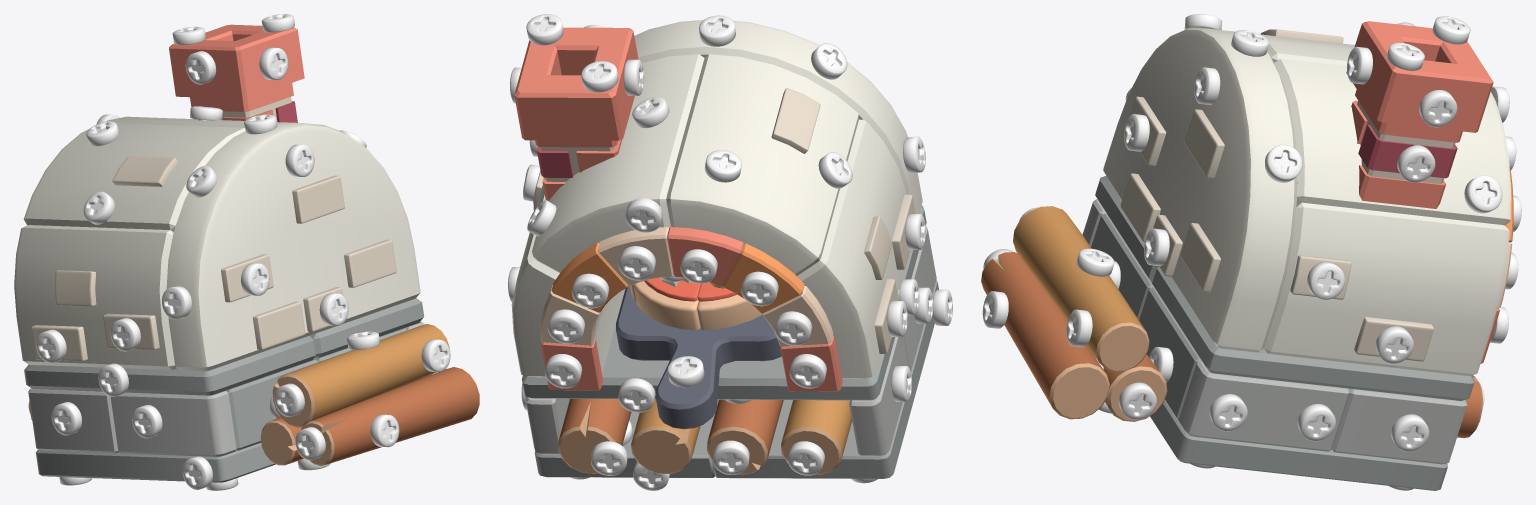
The model's file is Stove.fbx.
The picture shows the model from 3 angles, left to right: view 1: azimuth 30°, elevation 25°; view 2: azimuth 150°, elevation 25°; view 3: azimuth 270°, elevation 25°; orthographic projection. The views are drawn at different scales.
Visible parts, largest first — view 1: Stove_031, Stove_036, Screw (×23), Stove_032, Stove_015, Stove_023, Stove_024, Stove_038, Stove_013, Stove_035, Stove_014, Stove_010 (+3 smaller); view 2: Screw (×31), Stove_032, Stove_036, Stove_016, Stove_015, Stove_025, Stove_031, Stove_037, Stove_035, Stove_038, Stove_018, Stove_020 (+17 smaller); view 3: Stove_031, Stove_037, Screw (×20), Stove_015, Stove_016, Stove_024, Stove_023, Stove_009, Stove_033, Stove_008, Stove_012, Stove_011 (+5 smaller).
Part boxes in pixels (box(x1,y1,x2,y2)): Stove_031: box(166, 122, 420, 371); Stove_036: box(14, 225, 176, 369); Screw (×23): box(36, 14, 450, 489); Stove_032: box(23, 123, 245, 231); Stove_015: box(169, 24, 304, 122); Stove_023: box(301, 367, 479, 465); Stove_024: box(272, 324, 449, 427); Stove_038: box(24, 336, 315, 395); Stove_013: box(110, 391, 236, 456); Stove_035: box(35, 442, 275, 482); Stove_014: box(28, 388, 118, 453); Stove_010: box(225, 359, 317, 450); Screw (×31): box(526, 14, 952, 490); Stove_032: box(666, 54, 858, 275); Stove_036: box(797, 119, 915, 378); Stove_016: box(532, 54, 704, 272); Stove_015: box(514, 27, 638, 200); Stove_025: box(616, 285, 781, 429); Stove_031: box(634, 20, 922, 213); Stove_037: box(511, 171, 625, 377); Stove_035: box(712, 279, 938, 478); Stove_038: box(717, 205, 926, 400); Stove_018: box(558, 399, 631, 473); Stove_020: box(707, 399, 783, 474); Stove_031: box(1103, 28, 1297, 352); Stove_037: box(1264, 202, 1509, 375); Screw (×20): box(982, 16, 1502, 451); Stove_015: box(1346, 21, 1493, 208); Stove_016: box(1274, 58, 1510, 225); Stove_024: box(1013, 206, 1149, 371); Stove_023: box(981, 252, 1109, 419); Stove_009: box(1152, 267, 1474, 400); Stove_033: box(1150, 399, 1447, 490); Stove_008: box(1178, 361, 1350, 451); Stove_012: box(1332, 388, 1467, 464); Stove_011: box(1139, 287, 1201, 420).
Size of the model in its own units: 8.19 by 9.01 by 9.67.
2 materials, 1 textured.
